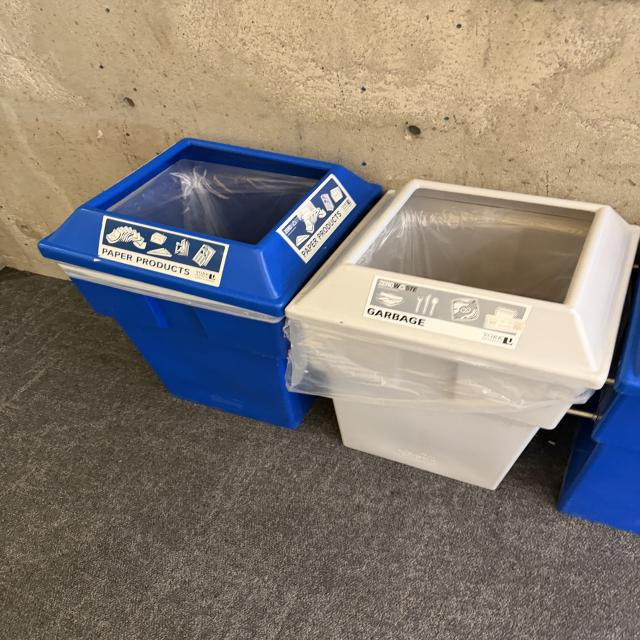Dustbin: (33, 134, 640, 532)
